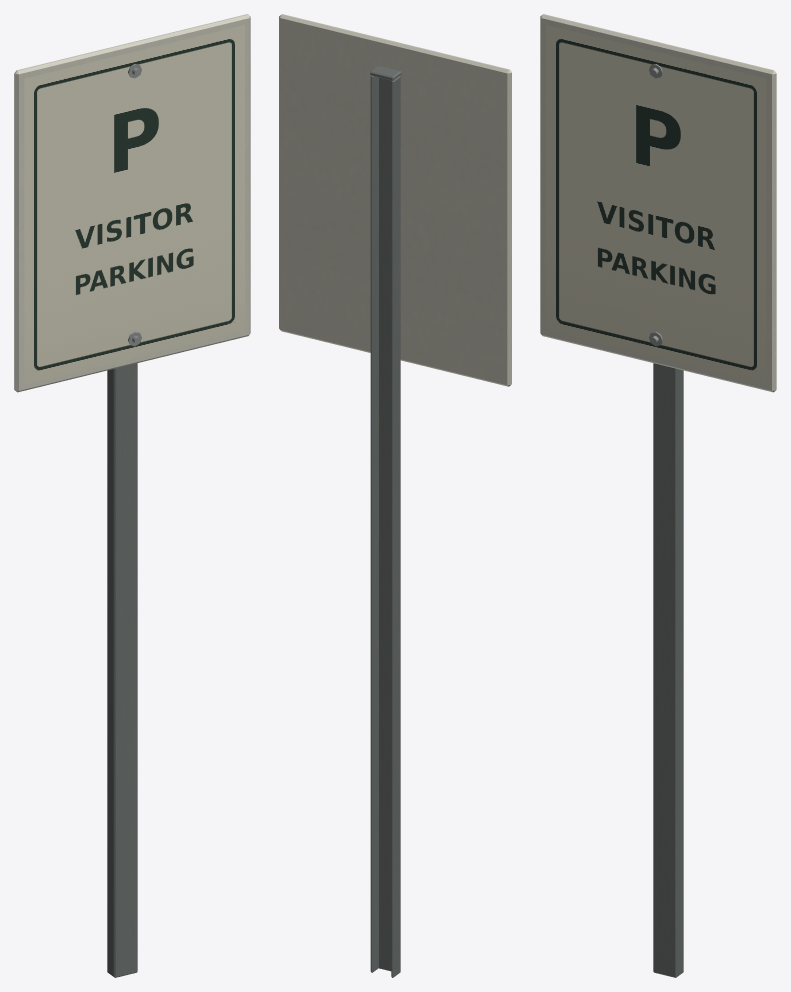
File: SM_Arrival_VisitorSign_LOD2.fbx
3 renders of one model, left to right at view 1: azimuth 30°, elevation 25°; view 2: azimuth 150°, elevation 25°; view 3: azimuth 330°, elevation 25°, orthographic.
Parts seen in each view (by area): view 1: SM_Arrival_VisitorSign_LOD2; view 2: SM_Arrival_VisitorSign_LOD2; view 3: SM_Arrival_VisitorSign_LOD2.
Boxes of the visible parts, x1=… form: SM_Arrival_VisitorSign_LOD2: x1=14, y1=14, x2=250, y2=977; SM_Arrival_VisitorSign_LOD2: x1=279, y1=14, x2=511, y2=977; SM_Arrival_VisitorSign_LOD2: x1=540, y1=14, x2=776, y2=977.
Bounding box in the file's own units: 0.46 × 0.066 × 1.75.
